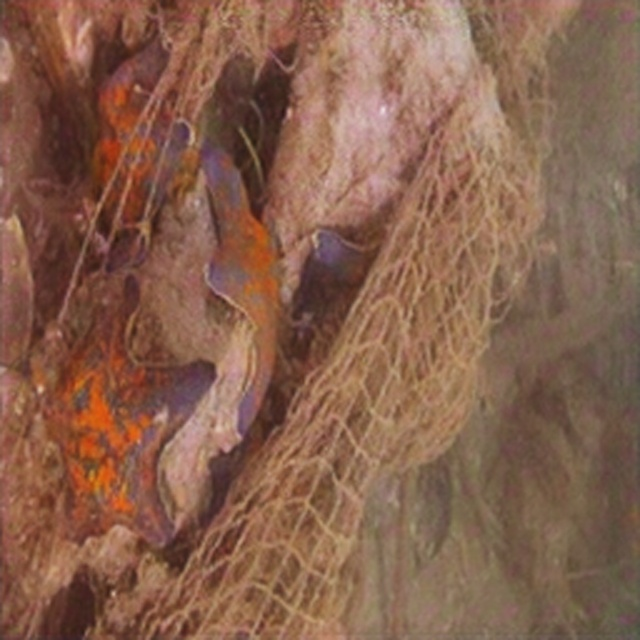mine: (136, 103, 497, 639)
